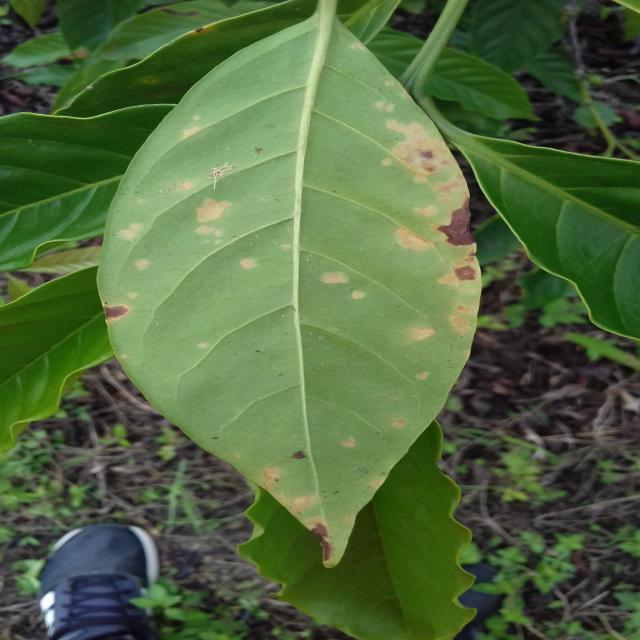Enfermedad-Roya: (108, 0, 483, 568)
